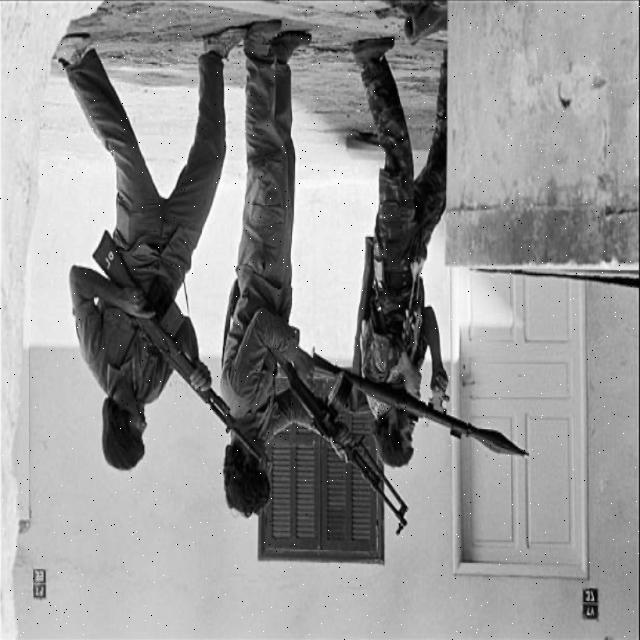bazooka: (313, 334, 561, 474)
